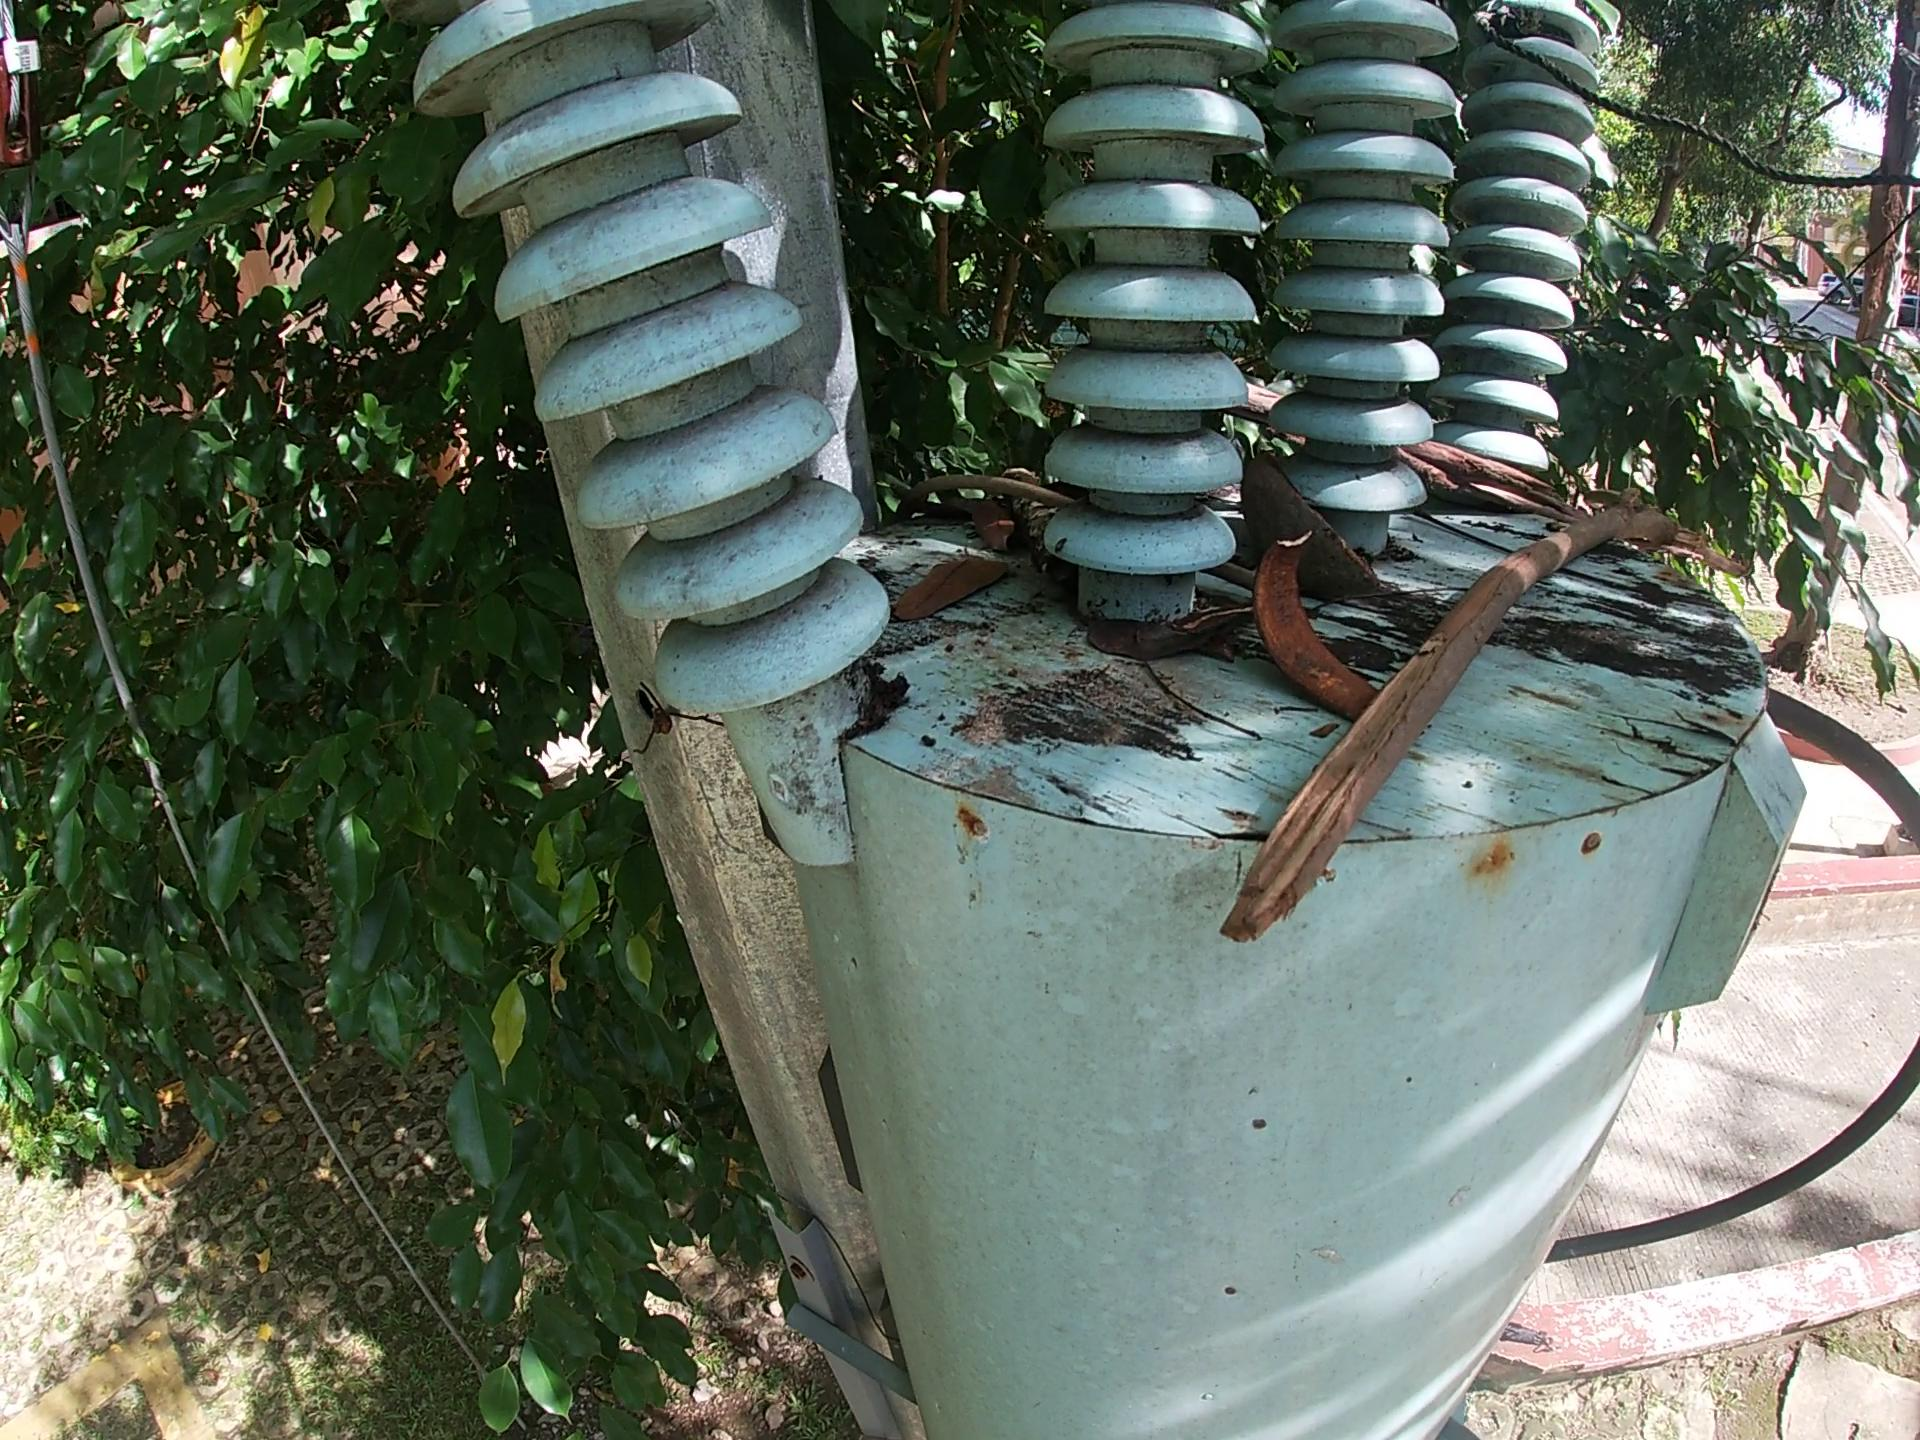leaf: (853, 564, 1005, 644), (1067, 611, 1155, 658)
mahogany fruit: (1250, 519, 1365, 714), (1241, 467, 1377, 617)
tree branch: (1223, 511, 1770, 979), (1426, 520, 1699, 622), (1401, 439, 1581, 529), (1160, 663, 1311, 746), (977, 466, 1051, 587), (1237, 383, 1327, 451), (1167, 608, 1246, 658), (918, 486, 1061, 501)
